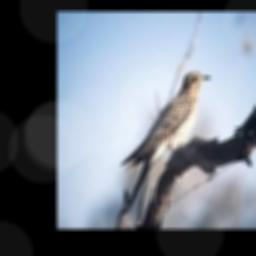Cuckoo: (120, 71, 210, 213)
